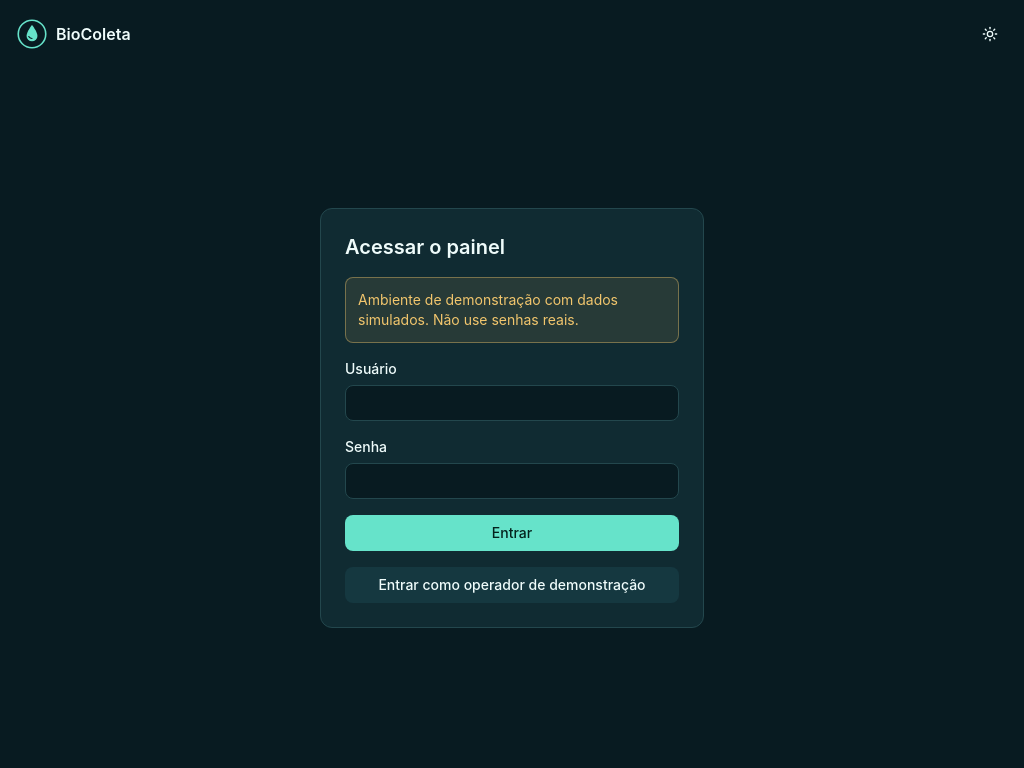
route guard and login › shows the error and keeps the typed username
The width and height of the screenshot is (1024, 768).
Type "maria" into the field labelled "Usuário" at (512, 403), box [345, 385, 679, 421]
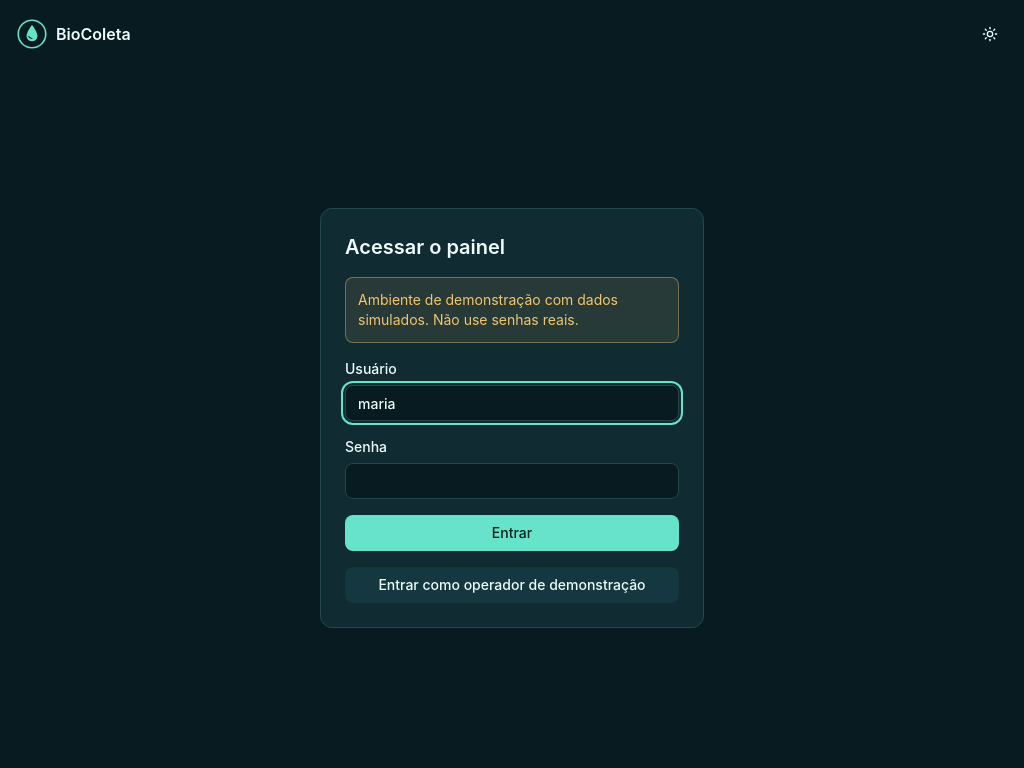
Type "errada" into the password field labelled "Senha" at (512, 481), box [345, 463, 679, 499]
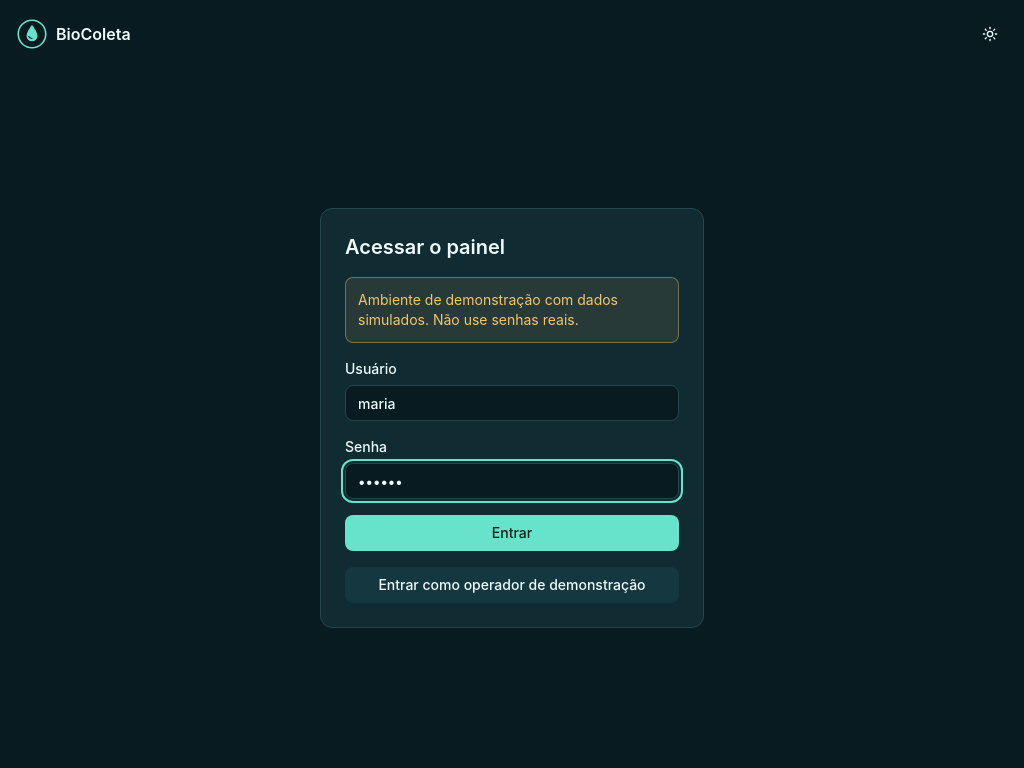
Click the button "Entrar" at (512, 533), box [345, 515, 679, 551]
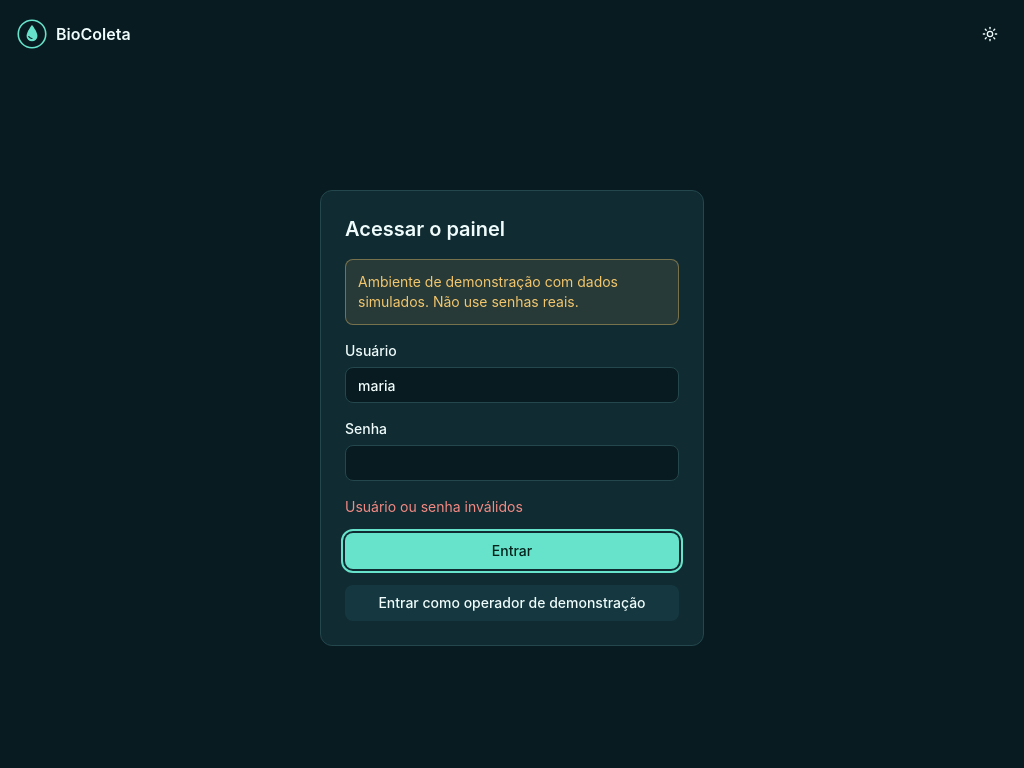
Expected: the message reads "Usuário ou senha inválidos", [345, 498, 523, 515]
